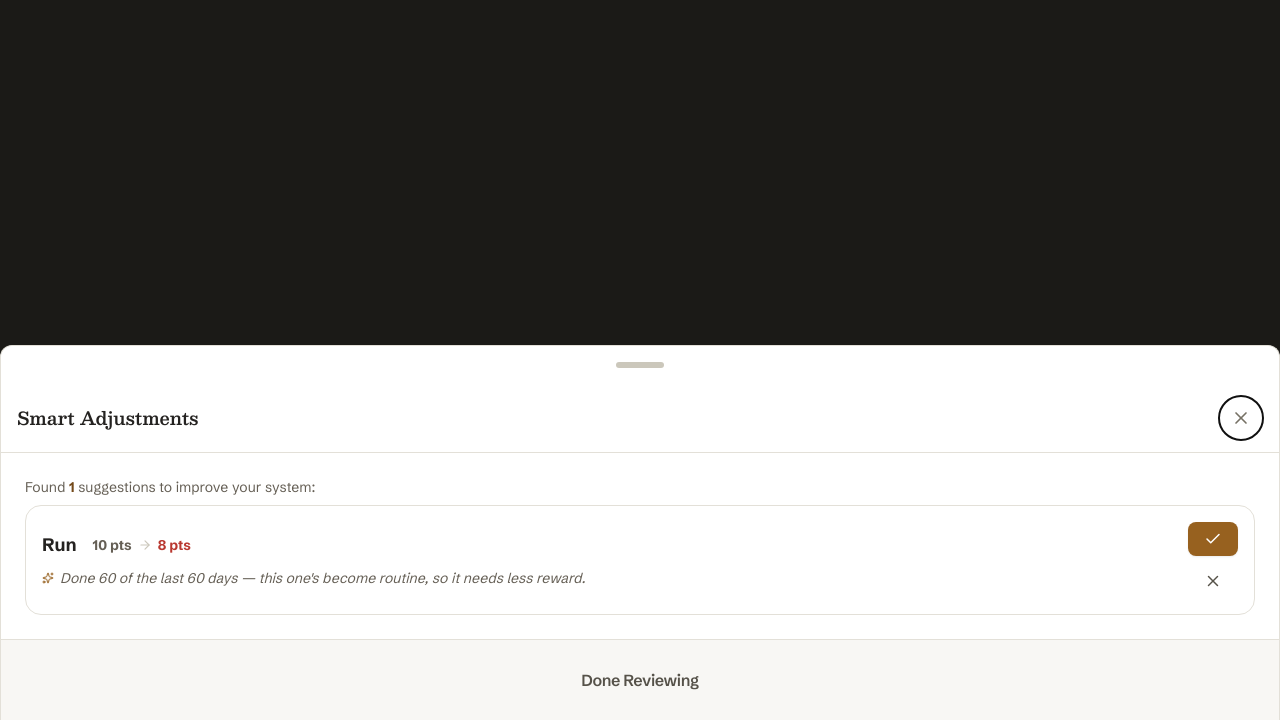
Test case: SmartHabitAdjustModal › removes suggestion when ignored
Check: the heading "Run" is shown, box [42, 531, 76, 559]
Click the button titled "Ignore" at [1213, 581], box [1188, 564, 1238, 598]
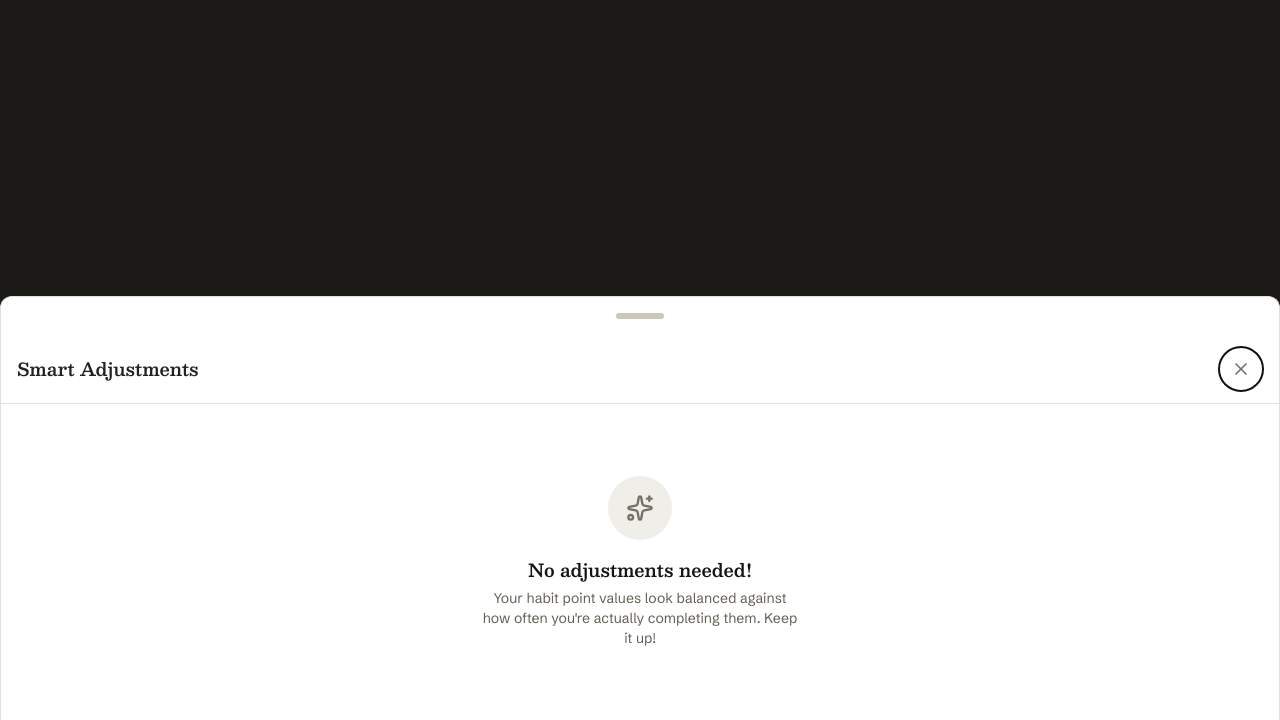
Check: the heading "Run" is gone
